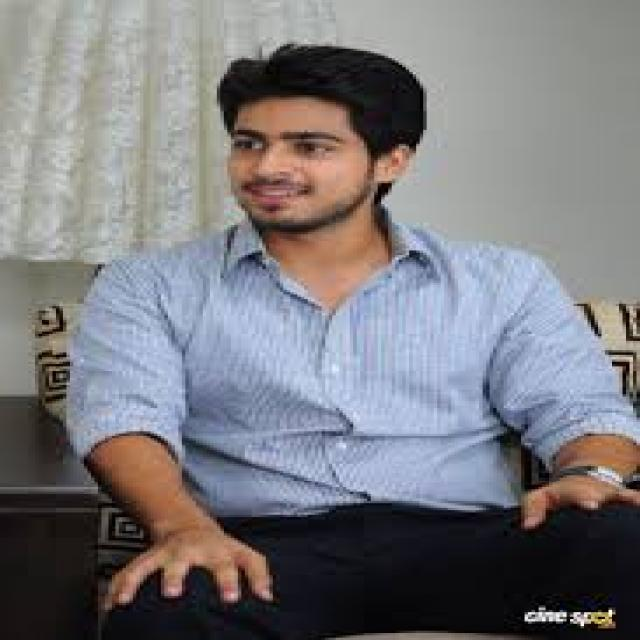no_dark_circle: (293, 154, 339, 164), (227, 146, 258, 156)
